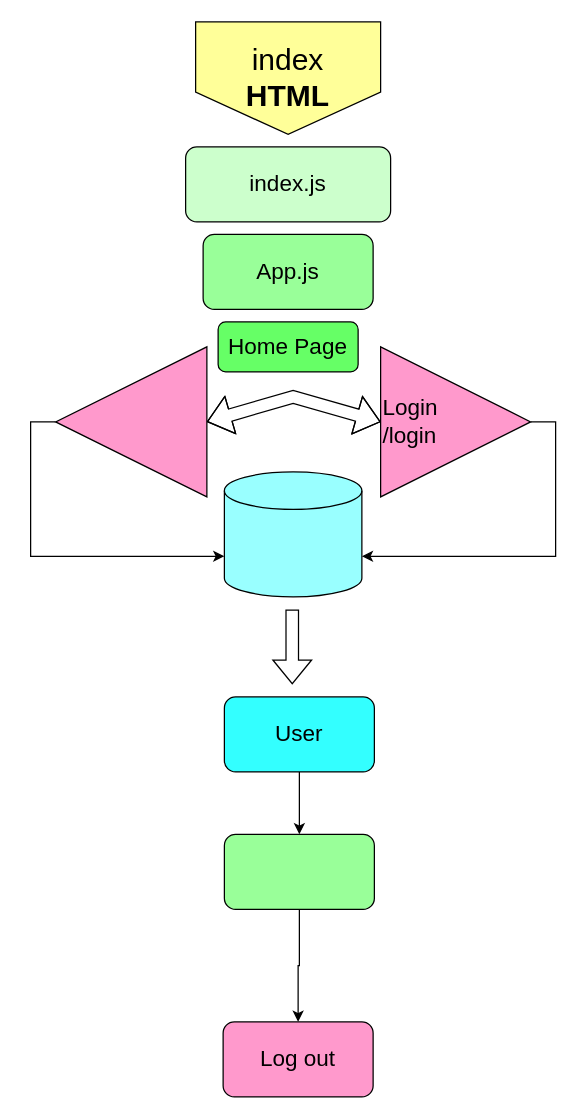
Some shapes in this 588 by 1119 pixel diagram are drawn without their labels. Each missing label, with the centre of its shape:
"Redux" goes at [292,534].
"Register /register" goes at [130,421].
"Tasks /home" goes at [298,871].
